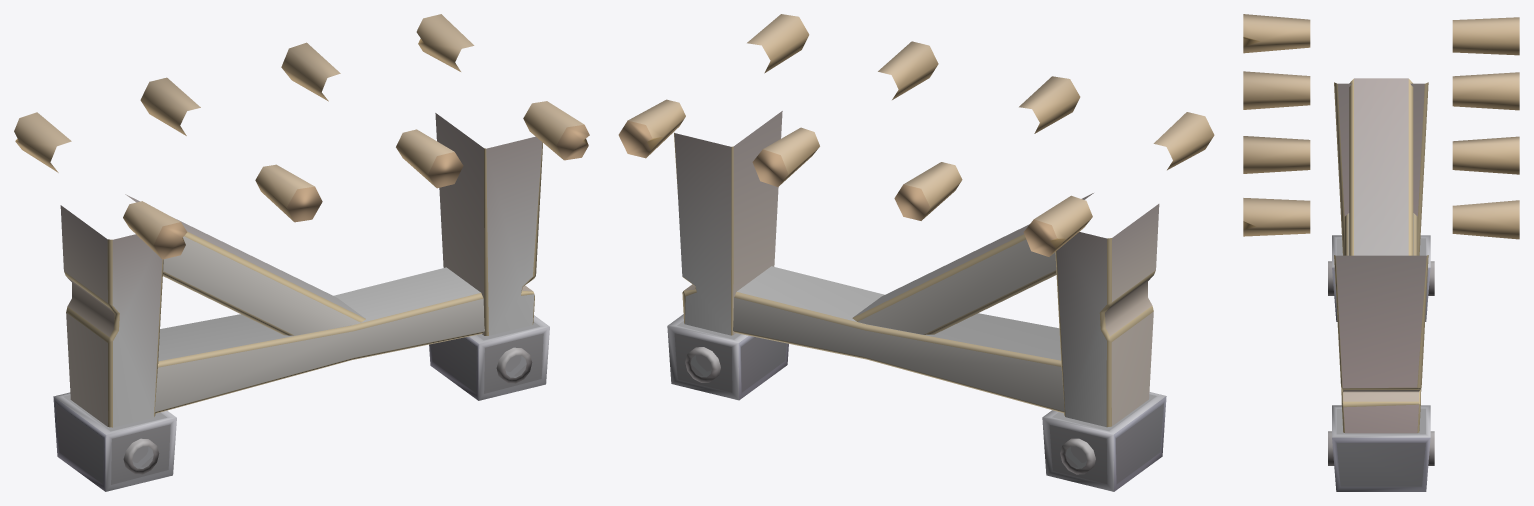
Rendered from SwordRackBase.glb.
3 views of the same model, side by side, from view 1: azimuth 30°, elevation 25°; view 2: azimuth 150°, elevation 25°; view 3: azimuth 270°, elevation 25° (orthographic). The views are drawn at different scales.
Parts seen in each view (by area): view 1: SwordRackBase; view 2: SwordRackBase; view 3: SwordRackBase.
Part boxes in pixels (x1,y1,x2,y2): SwordRackBase: (14, 14, 589, 491); SwordRackBase: (618, 14, 1214, 491); SwordRackBase: (1243, 14, 1519, 491).
Size of the model in its own units: 0.7814 by 0.511 by 0.4502.
